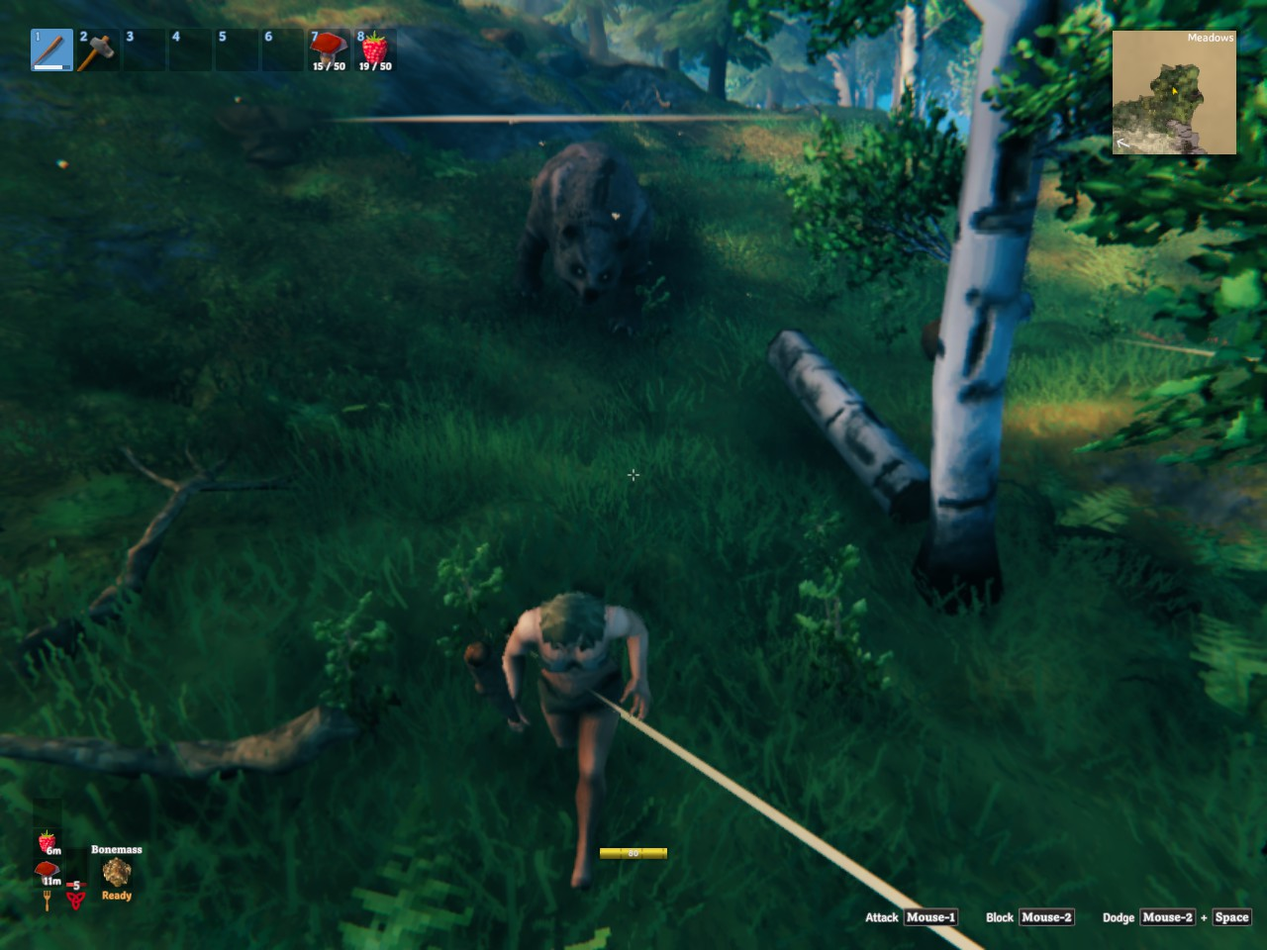Bear: (516, 142, 652, 332)
